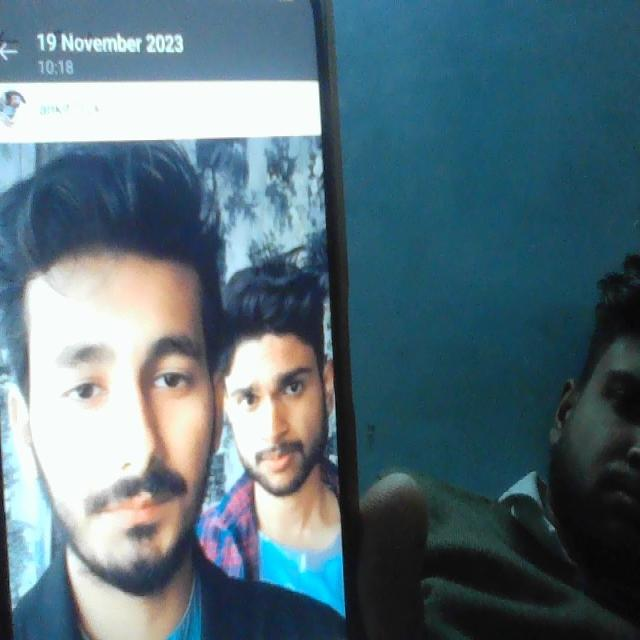fake: (0, 127, 256, 610), (223, 279, 338, 496)
